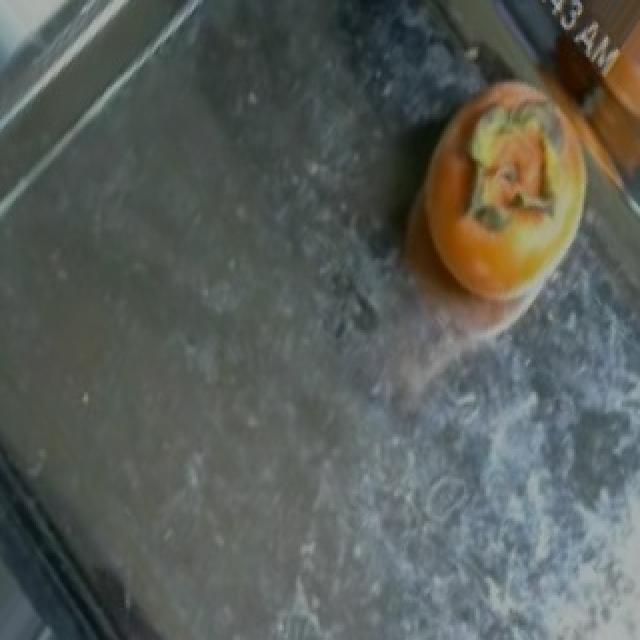Fruit: (386, 54, 612, 344), (578, 0, 640, 208)
